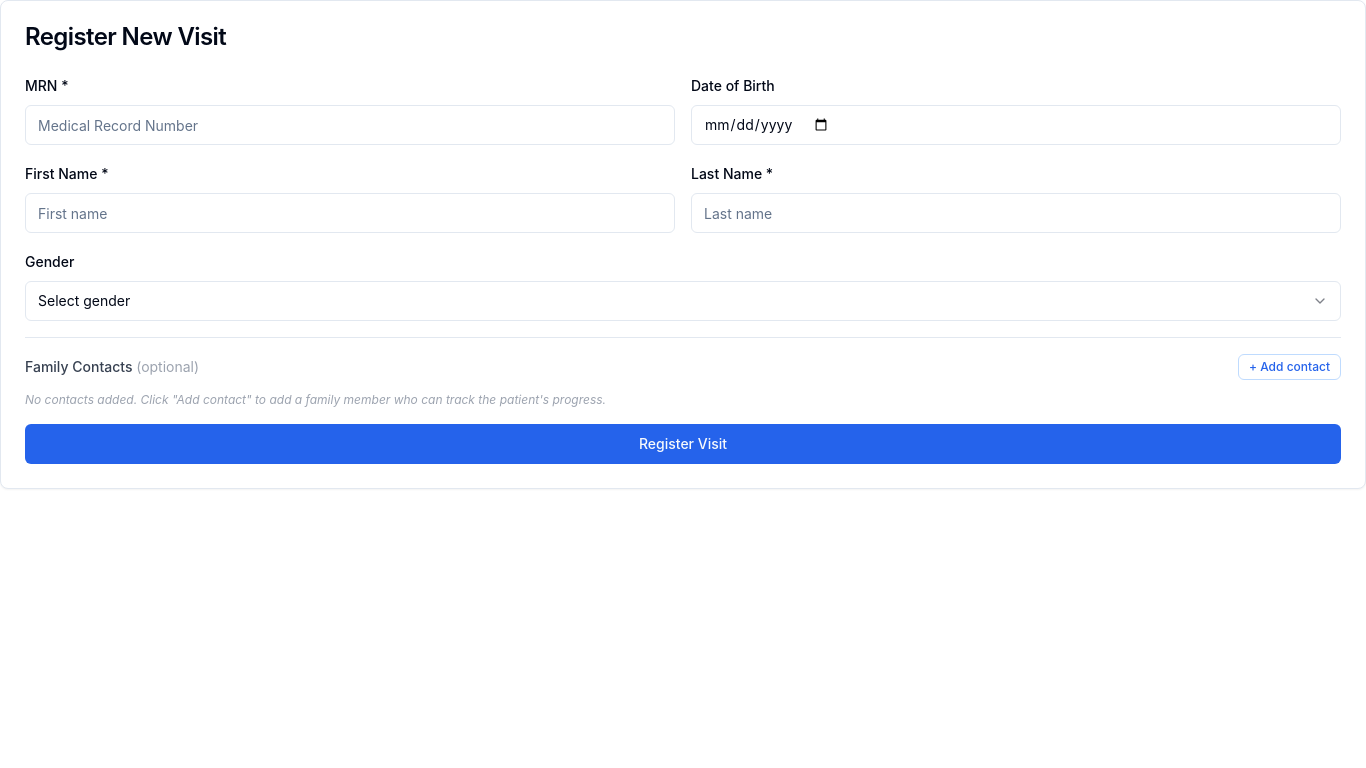
CreateVisitForm › shows error when family contact has no consent
The image size is (1366, 768).
In the field labelled "MRN *": coordinates (350, 125) [25,105,675,145], type "MRN002"
In the field labelled "First Name *": coordinates (350, 213) [25,193,675,233], type "John"
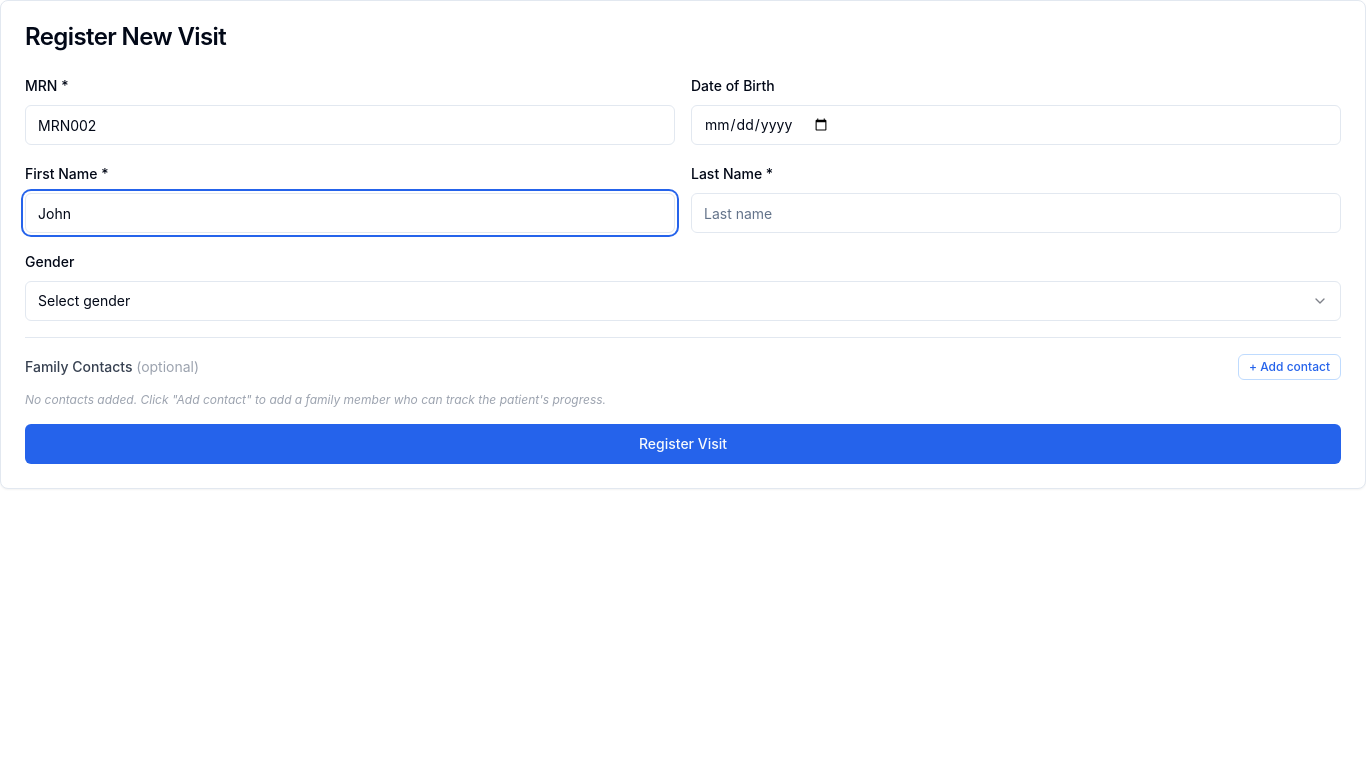
In the field labelled "Last Name *": coordinates (1016, 213) [691,193,1341,233], type "Doe"
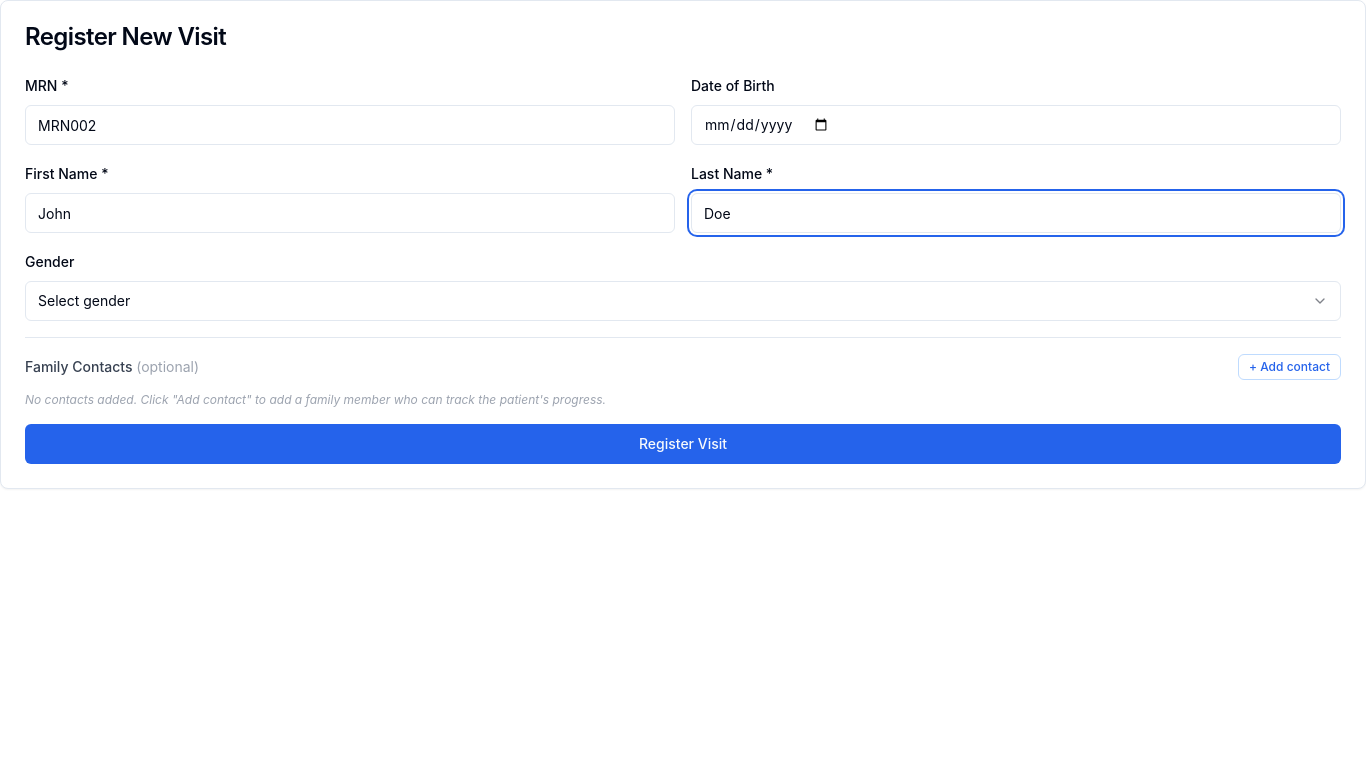
Click the button "+ Add contact": coordinates (1290, 367) [1238,354,1341,380]
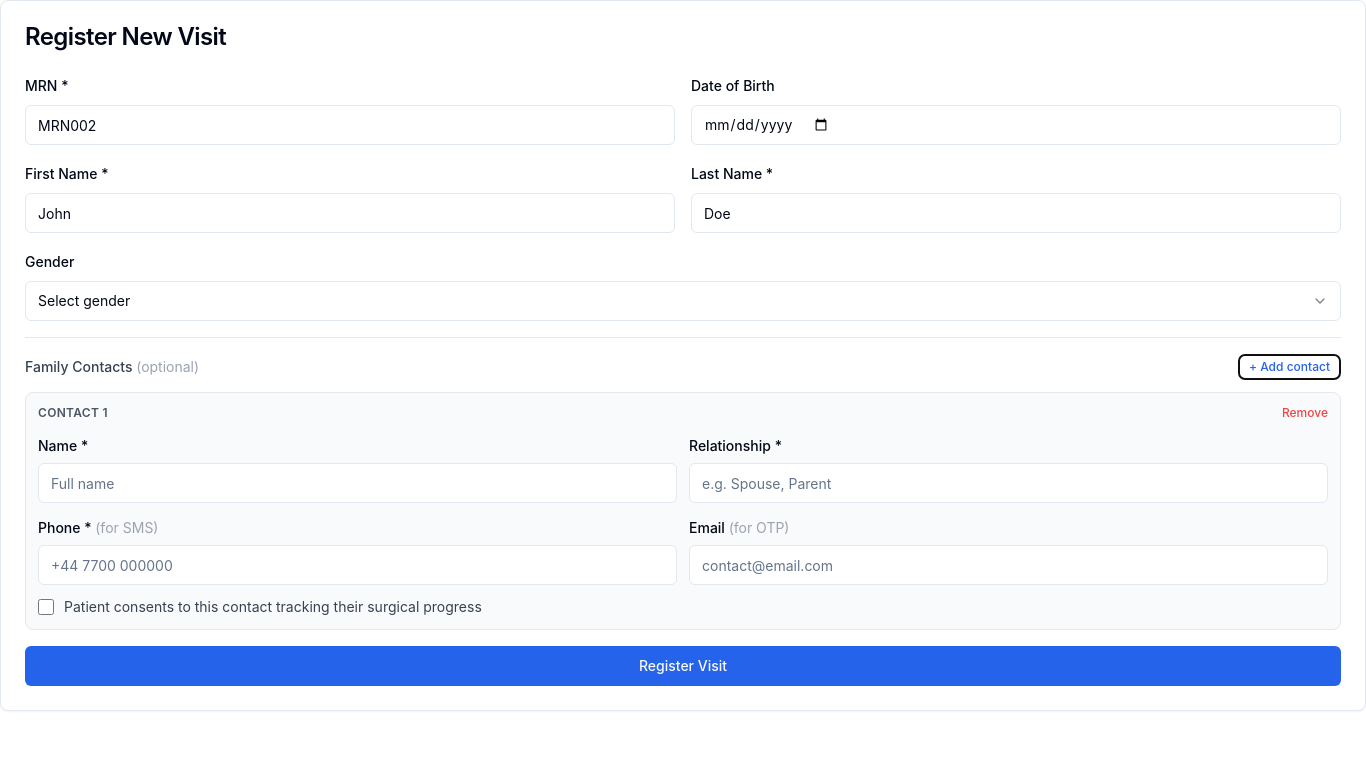
In the field labelled "Name *": coordinates (358, 483) [38,463,677,503], type "Jane Doe"
In the field labelled "Phone * (for SMS)": coordinates (358, 565) [38,545,677,585], type "+447700000000"
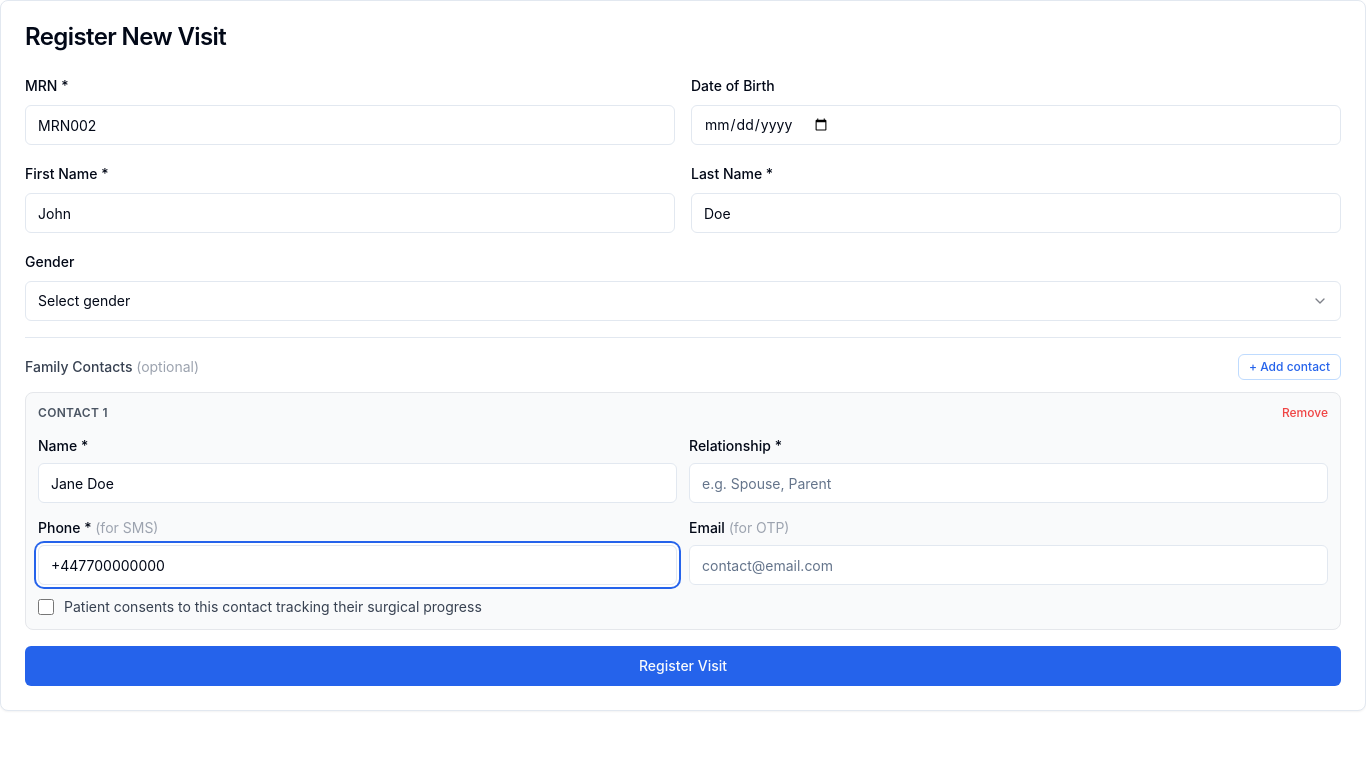
In the field labelled "Relationship *": coordinates (1008, 483) [689,463,1328,503], type "Spouse"
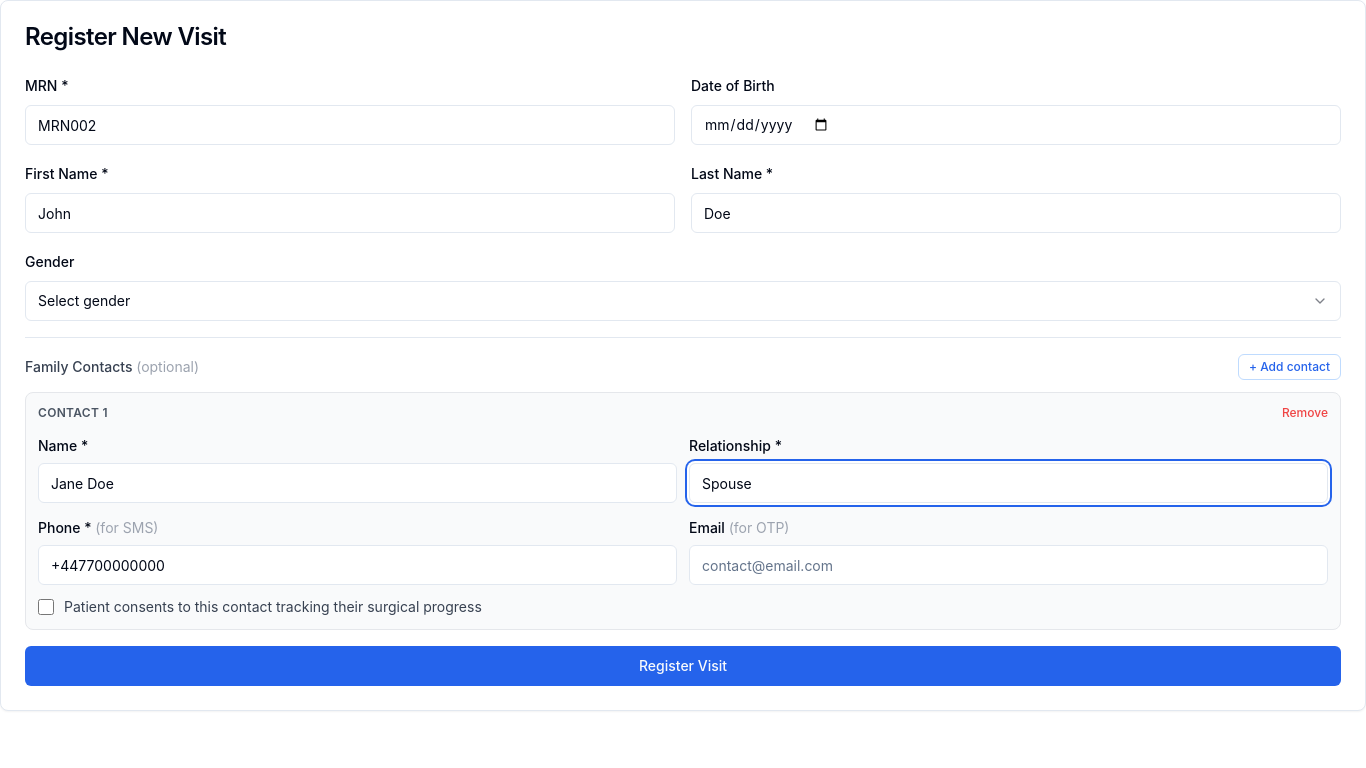
Click the button "Register Visit": coordinates (683, 666) [25,646,1341,686]
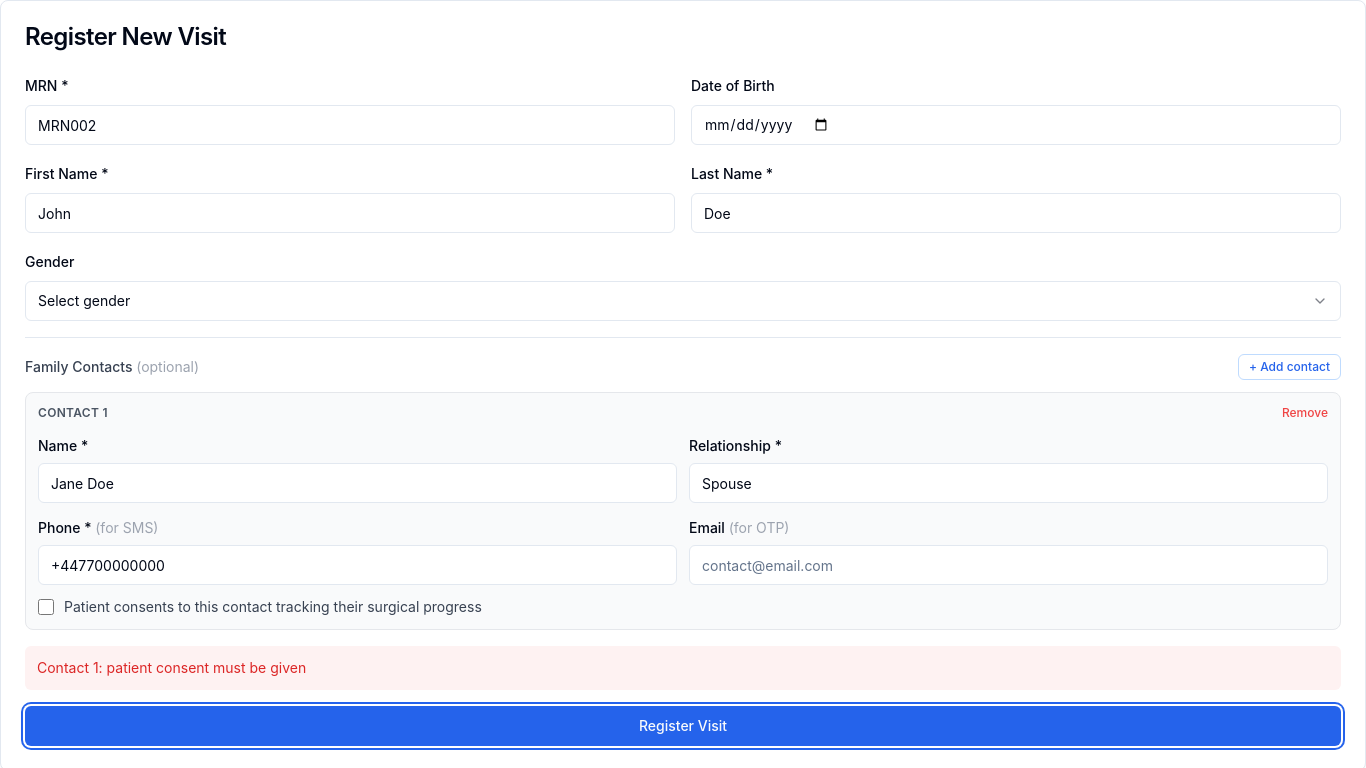
expect the text "Contact 1: patient consent must be given" is shown: met, box [25,646,1341,690]
